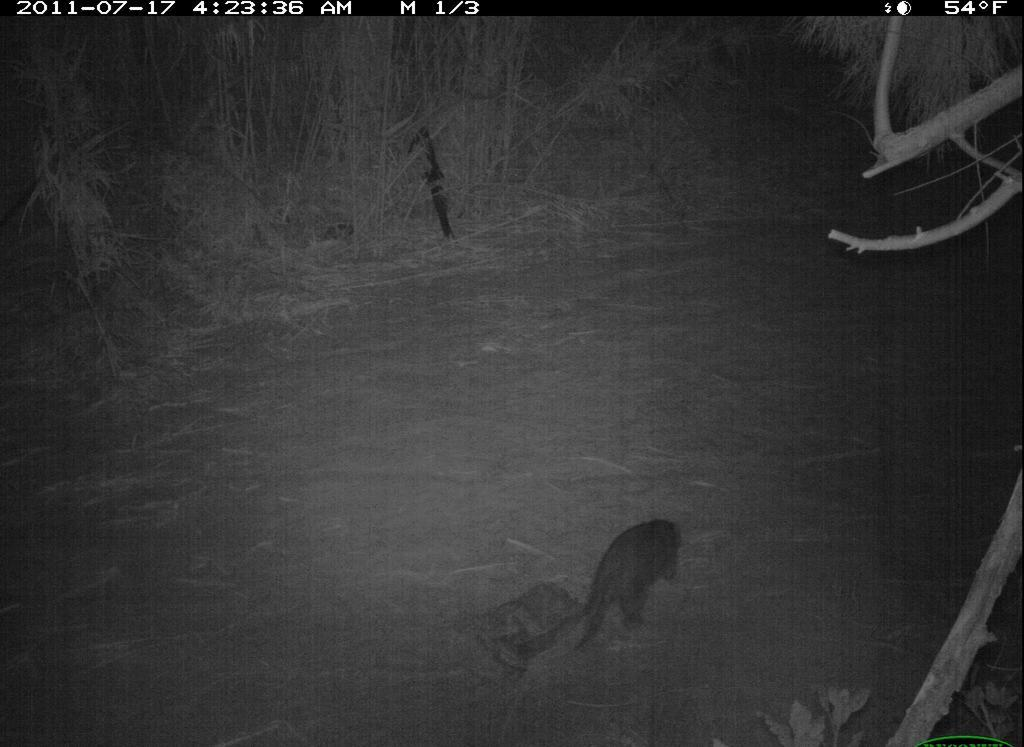raccoon: (539, 501, 694, 661)
